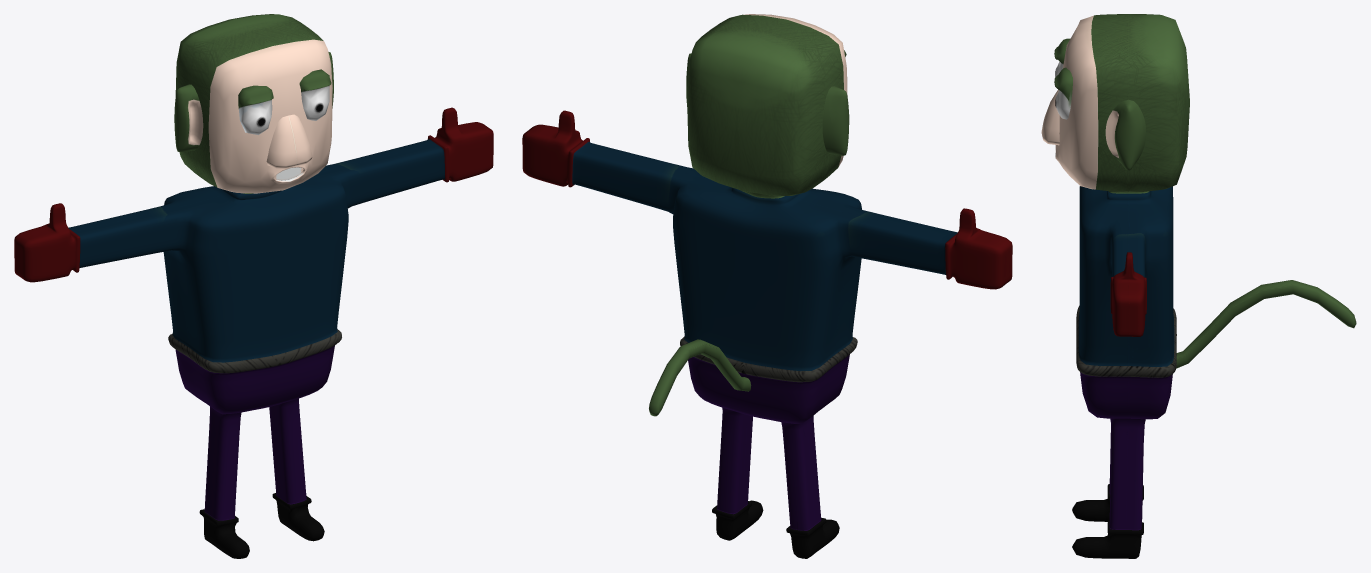
File: monkey.glb
3 renders of one model, left to right at view 1: azimuth 30°, elevation 25°; view 2: azimuth 150°, elevation 25°; view 3: azimuth 270°, elevation 25°, orthographic. The views are drawn at different scales.
Visible parts, largest first — view 1: Cube; view 2: Cube; view 3: Cube.
Part boxes in pixels (box(x1,y1,x2,y2)): Cube: box(14, 14, 493, 558); Cube: box(522, 14, 1012, 558); Cube: box(1041, 14, 1356, 558).
Bounding box in the file's own units: 16.97 × 17.4 × 9.77.
Materials: 1 (1 with a texture image).
